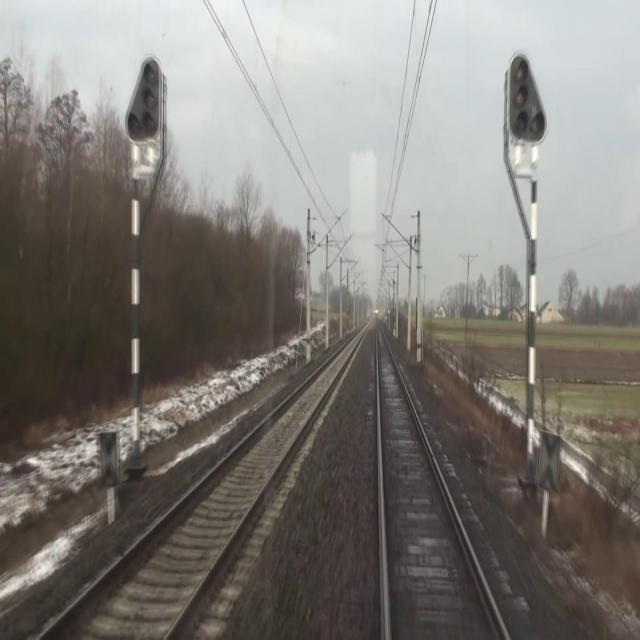rail-track: (43, 326, 365, 639), (377, 322, 505, 639)
